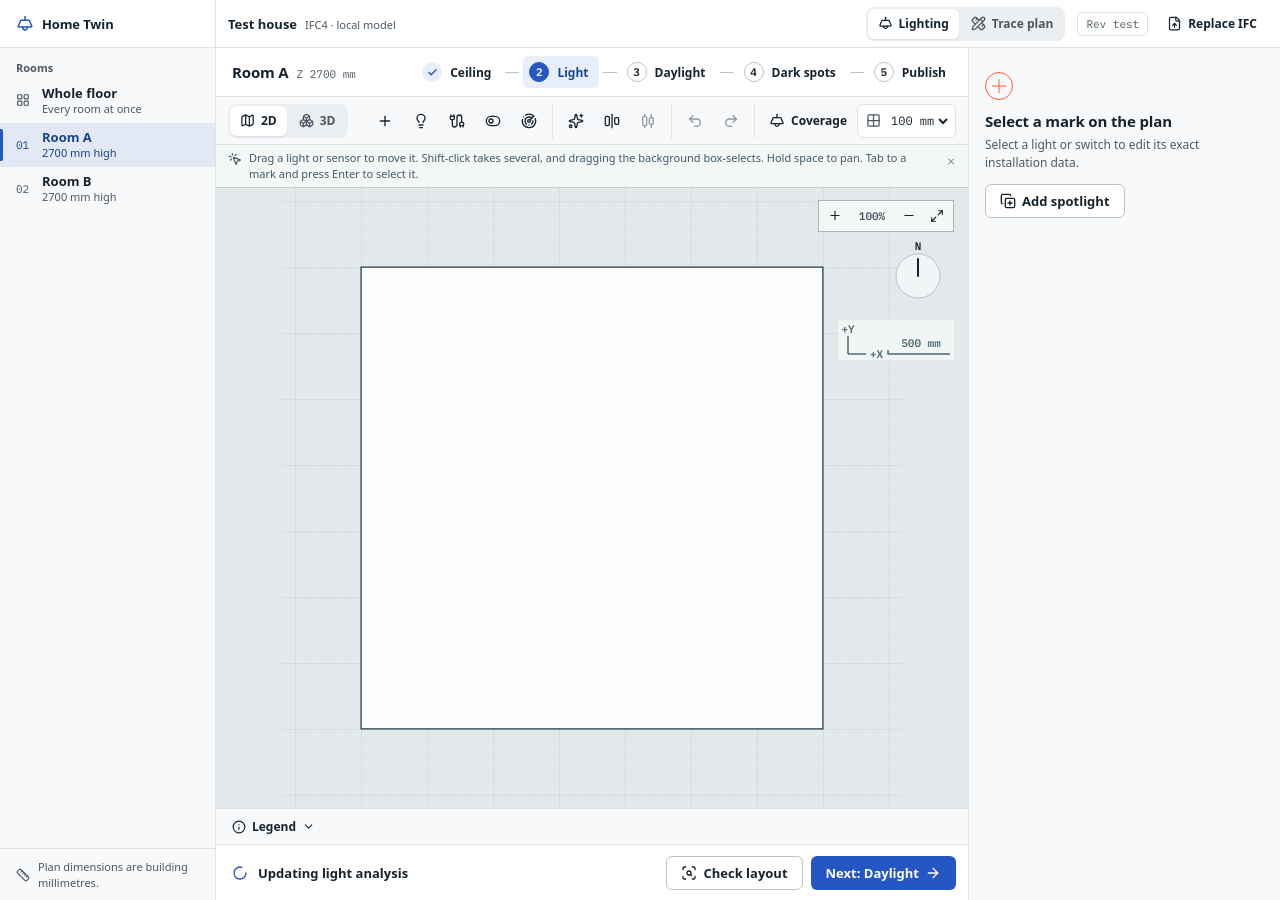
Scenario: App view switching › retries the whole floor without reloading the open room
The image size is (1280, 900).
Expected: the picture named "Interactive top-down ceiling plan" is shown, 216,188 -> 968,808
Click the button "Whole floor Every room at once".
click(108, 101)  # box 0,79 -> 215,123
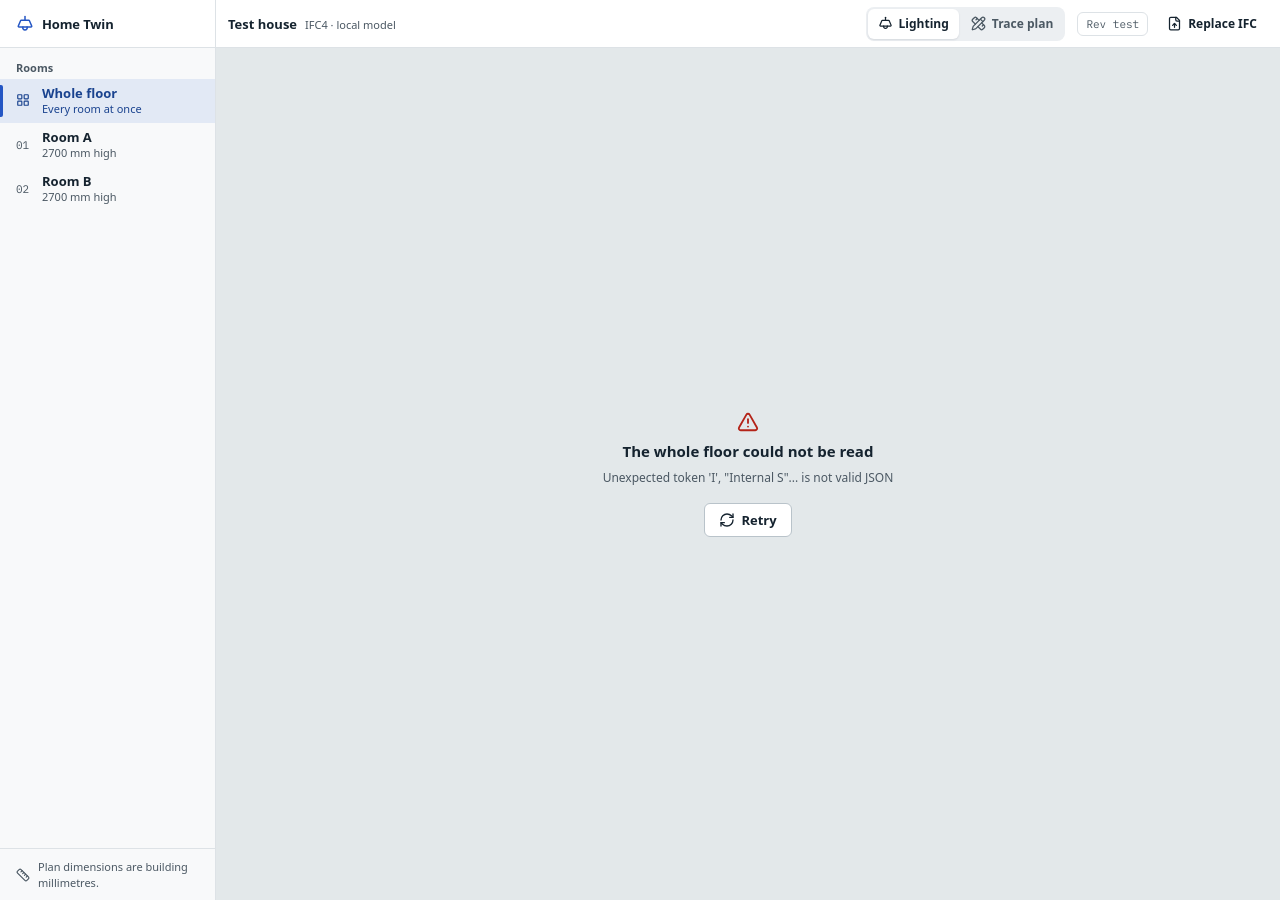
Click the button "Retry".
click(748, 520)  # box 704,503 -> 792,537
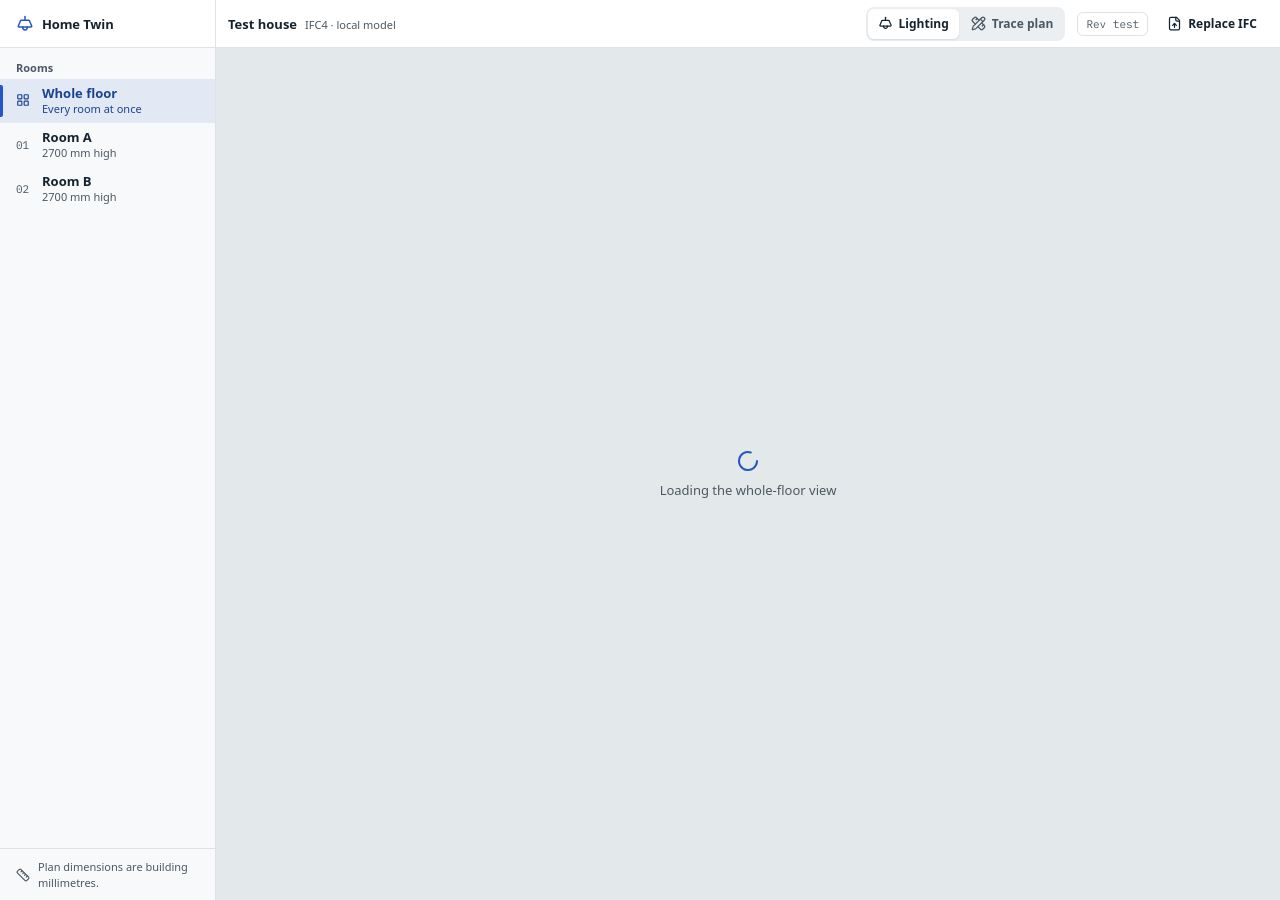
Now the text "The whole floor could not be read" is gone
